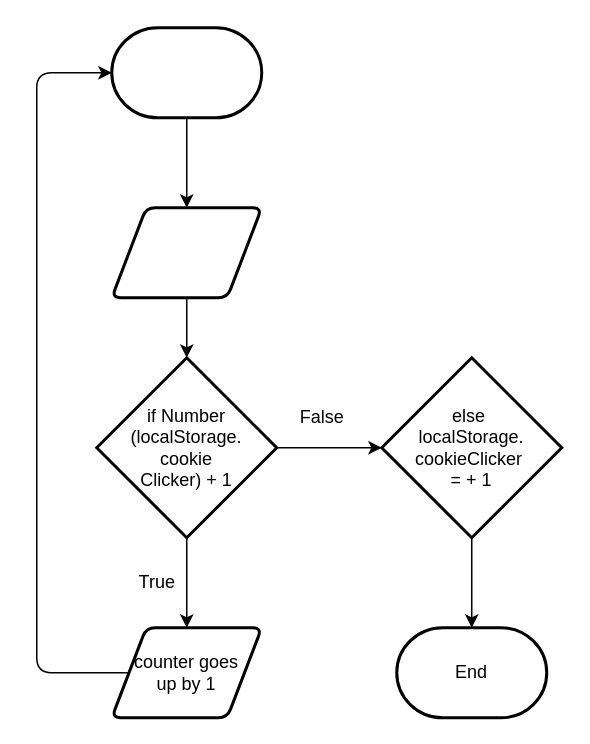
This 590x744 diagram has some shape labels left out. Here are the shapes that lost their labels. From the top down, the centre of each, then its label:
At point (186, 72): "Start".
At point (186, 252): "User clicks on cookie".
